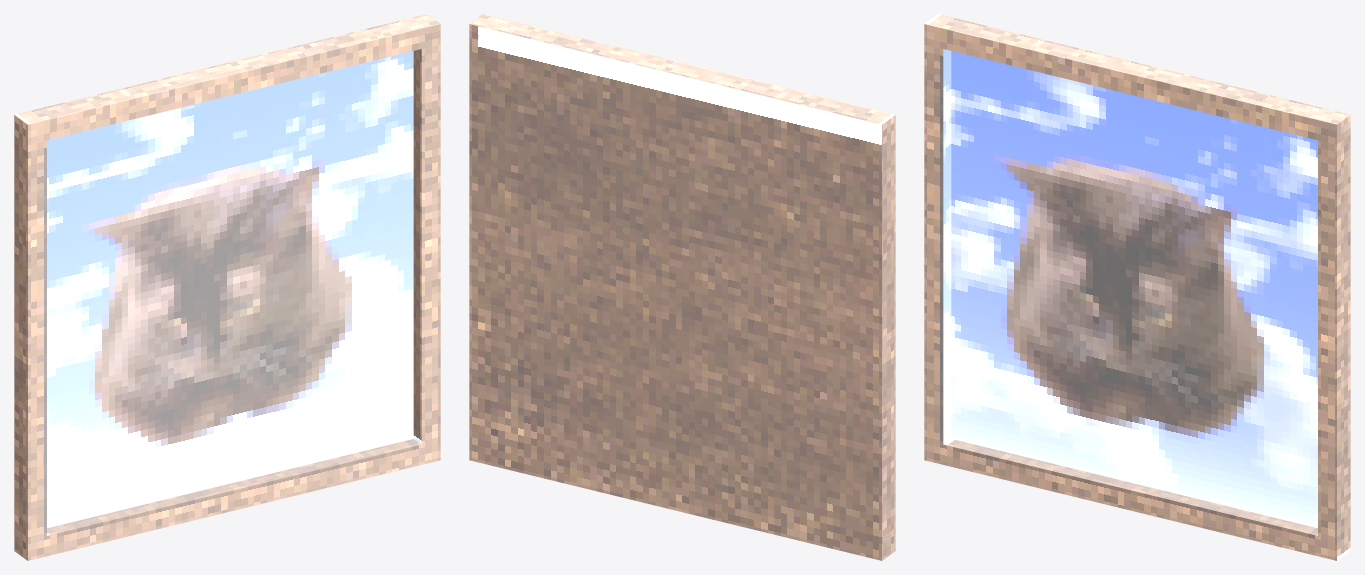
The model's file is painting_3.glb.
3 views of the same model, side by side, from view 1: azimuth 30°, elevation 25°; view 2: azimuth 150°, elevation 25°; view 3: azimuth 330°, elevation 25° (orthographic).
Visible parts, largest first — view 1: Painting_3; view 2: Painting_3; view 3: Painting_3.
Boxes of the visible parts, left/top/right/bottom form: Painting_3: left=14, top=14, right=440, bottom=560; Painting_3: left=469, top=14, right=895, bottom=560; Painting_3: left=924, top=14, right=1350, bottom=560.
Bounding box in the file's own units: 5.66 × 5.71 × 0.3246.
